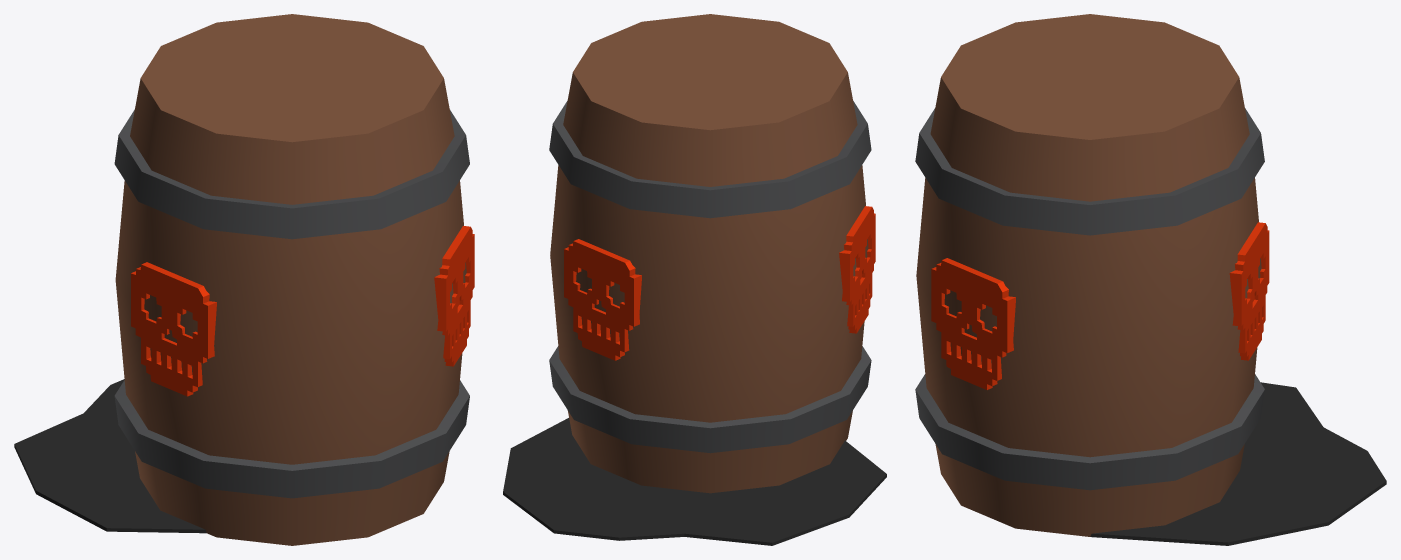
File: Explosive_Barrel.fbx
3 views of the same model, side by side, from view 1: azimuth 30°, elevation 25°; view 2: azimuth 150°, elevation 25°; view 3: azimuth 270°, elevation 25° (orthographic). The views are drawn at different scales.
Parts seen in each view (by area): view 1: Explosive_Barrel; view 2: Explosive_Barrel; view 3: Explosive_Barrel.
Boxes of the visible parts, x1,y1,x2,y2 form: Explosive_Barrel: [14, 14, 474, 545]; Explosive_Barrel: [503, 14, 886, 545]; Explosive_Barrel: [915, 14, 1386, 545].
Bounding box in the file's own units: 1.86 × 2 × 2.15.
